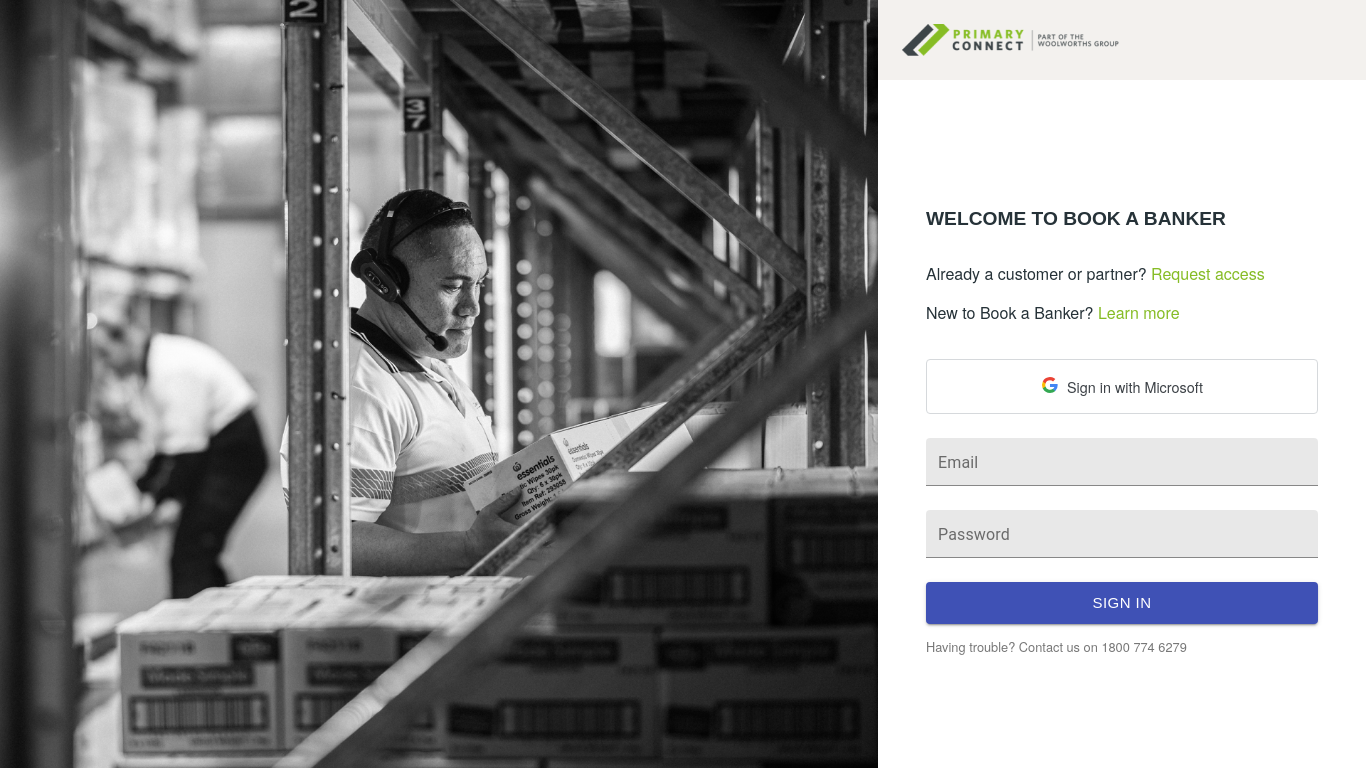
Scenario: logging in › no email error
This screenshot has width=1366, height=768.
Step 1. Click the button "Sign In" → (1122, 603), box 926,582 -> 1318,624
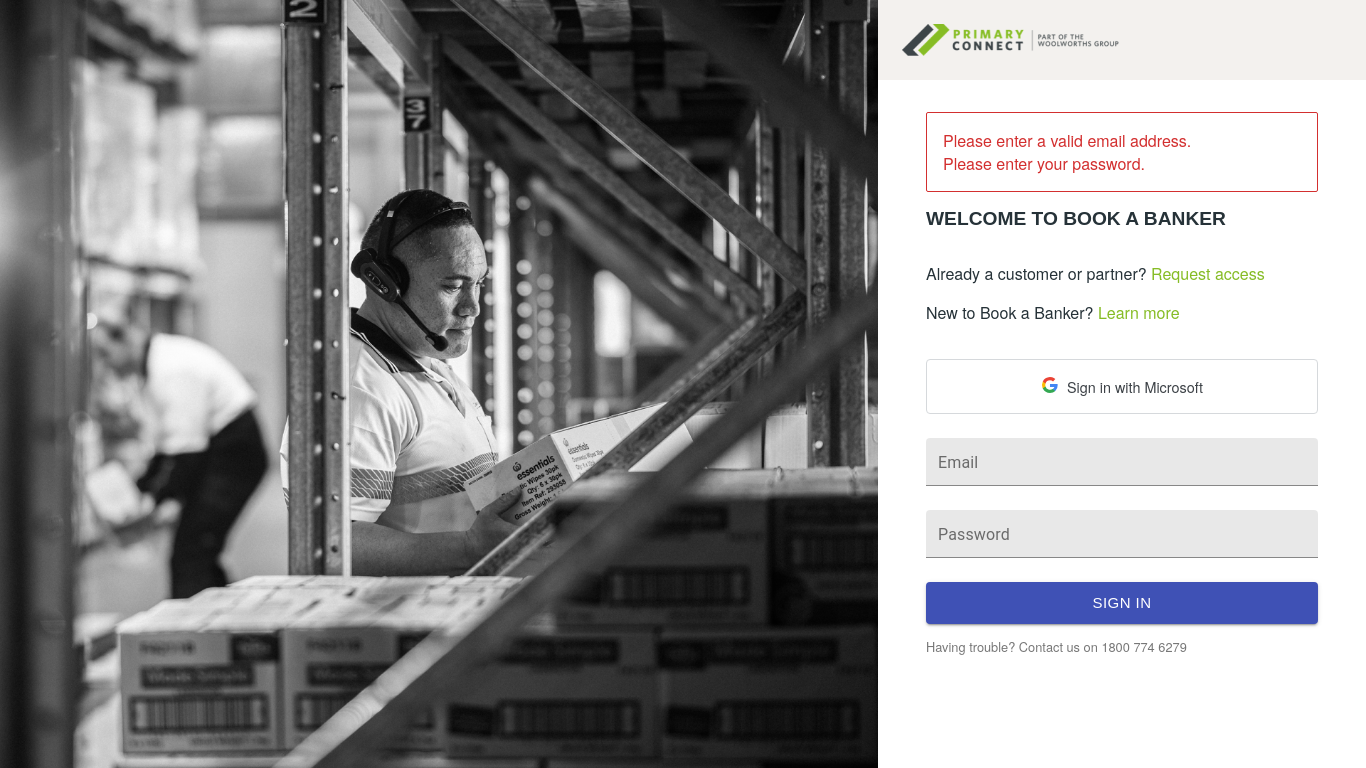
Check: the text "Please enter a valid email address." is shown, box 943,129 -> 1191,152
